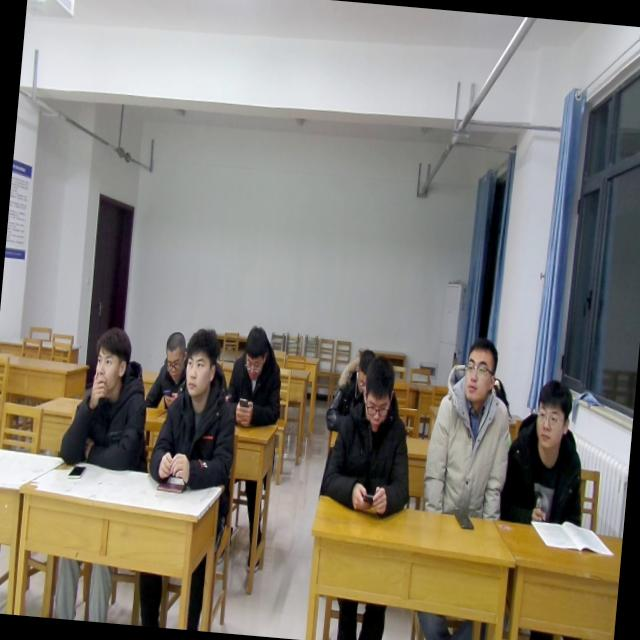bow: (225, 320, 288, 430), (322, 346, 378, 436)
down: (357, 351, 396, 434), (239, 320, 271, 380), (156, 323, 188, 382), (350, 344, 378, 398)
lookup: (526, 373, 576, 455), (178, 318, 226, 403), (89, 317, 136, 401), (459, 332, 502, 408)
sit: (422, 330, 520, 522), (318, 348, 422, 518), (145, 324, 246, 496), (498, 374, 594, 531), (56, 324, 155, 474), (144, 327, 192, 413)
